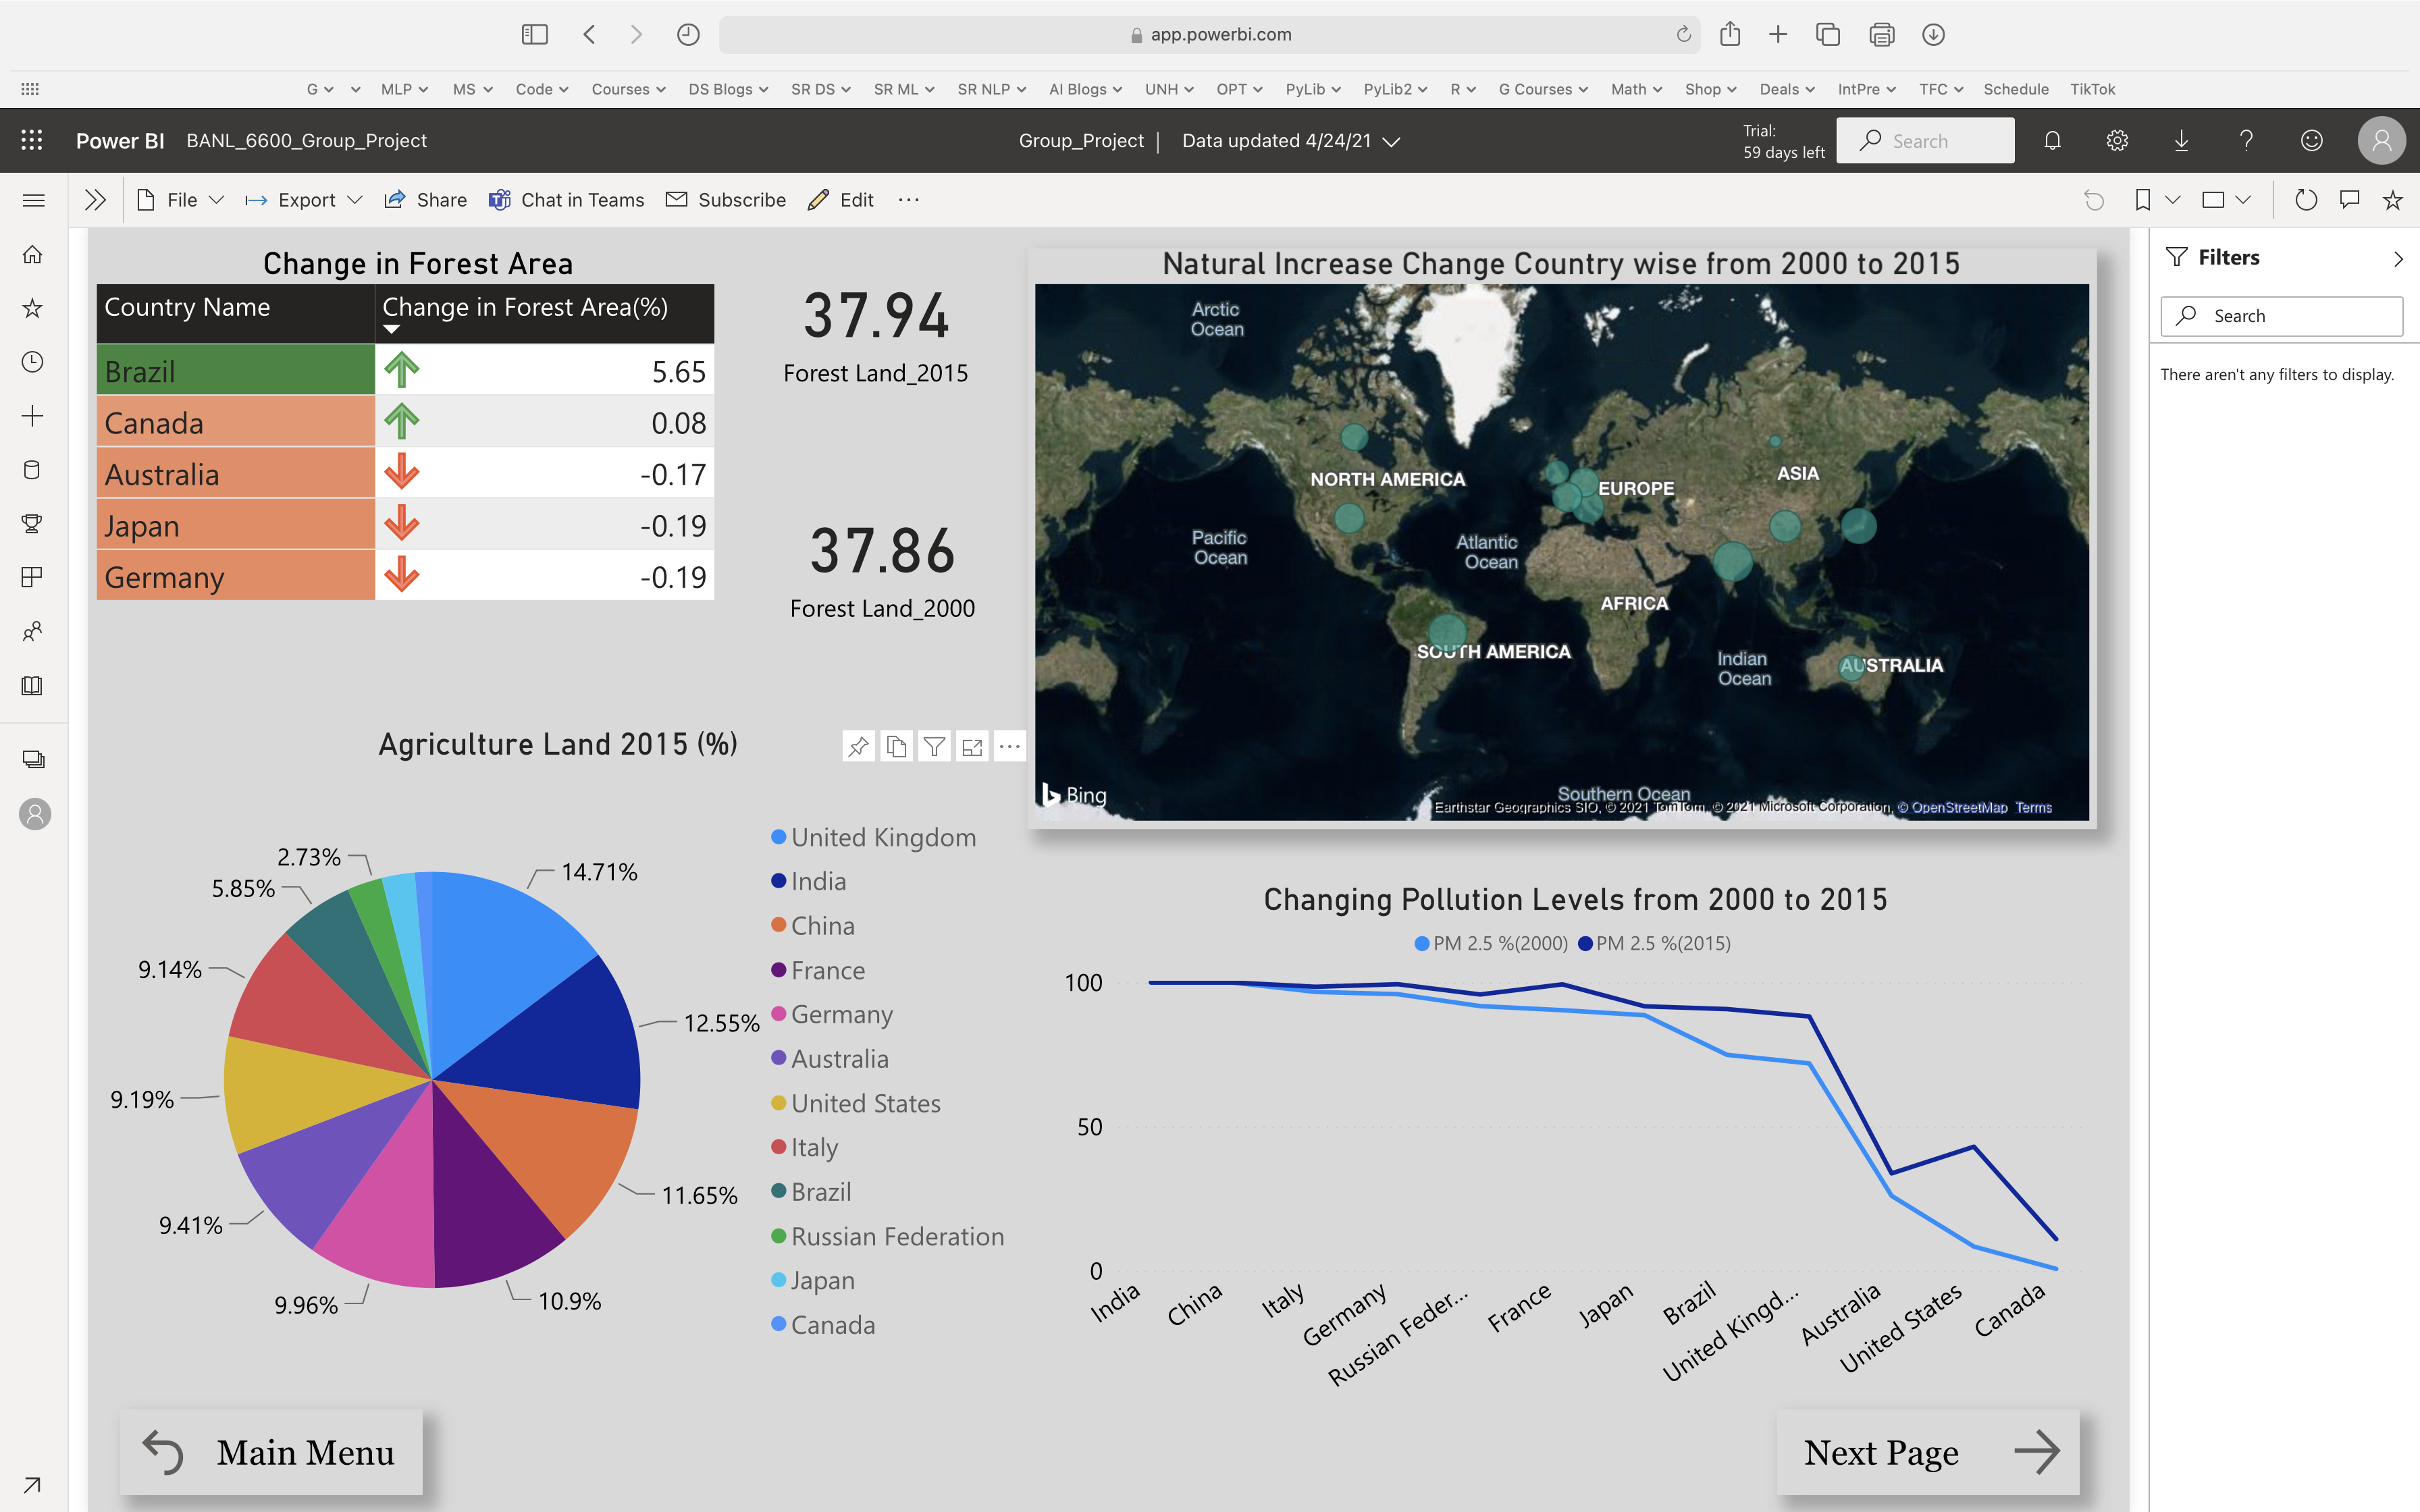

What the dashboard file says about the page in this screenshot:
{"tool":"powerbi","page":{"name":"Metrics I","canvas":[1350,850],"ordinal":1},"visuals":[{"type":"tableEx","title":"Change in Forest Area","fields":{"Values":["2015_Data.Country Name","All_Measures.Change in Forest Land"]},"box":[0,14.5,437.4,298.4],"z":0},{"type":"card","fields":{"Values":["All_Measures.Forest Land percentage_2015"]},"box":[451.9,14.5,139.1,99.9],"z":1000},{"type":"card","fields":{"Values":["All_Measures.Forest Land percentage_2000"]},"box":[451.9,163.7,147.7,113],"z":2000},{"type":"map","title":"Natural Increase Change Country wise from 2000 to 2015","fields":{"Size":["All_Measures.Natural Increase Change"],"Category":["2000_Data.Country Name"]},"box":[621.4,14.5,706.9,383.9],"z":3000},{"type":"lineChart","title":"Changing Pollution Levels from 2000 to 2015","fields":{"Y":["Sum(2015_Data.PM2.5 air pollution, population exposed to levels exceeding WHO guideline value (% of total))","Sum(2000_Data.PM2.5 air pollution, population exposed to levels exceeding WHO guideline value (% of total))"],"Category":["2015_Data.Country Name"]},"box":[640.2,434.5,688,347.6],"z":4000},{"type":"pieChart","title":"Agriculture Land 2015 (%)","fields":{"Y":["All_Measures.Agriculture Land percentage_2015"],"Category":["2000_Data.Country Name"]},"box":[0,331.7,621.4,444.7],"z":5000},{"type":"actionButton","box":[21.7,782.2,199.9,56.5],"z":6000},{"type":"actionButton","box":[1116.8,782.2,199.9,56.5],"z":7000}]}

Visuals, with their boxes on the page's 1350x850 design canvas (x1, y1, x2, y2). These are canvas units, not pixel positions in the 2420x1512 screenshot, which may show the page scaled, cropped or inside an application window:
"Change in Forest Area" tableEx: locate(0, 14, 437, 313)
card - All_Measures.Forest Land percentage_2015: locate(452, 14, 591, 114)
card - All_Measures.Forest Land percentage_2000: locate(452, 164, 600, 277)
"Natural Increase Change Country wise from 2000 to 2015" map: locate(621, 14, 1328, 398)
"Changing Pollution Levels from 2000 to 2015" lineChart: locate(640, 434, 1328, 782)
"Agriculture Land 2015 (%)" pieChart: locate(0, 332, 621, 776)
actionButton: locate(22, 782, 222, 839)
actionButton: locate(1117, 782, 1317, 839)
